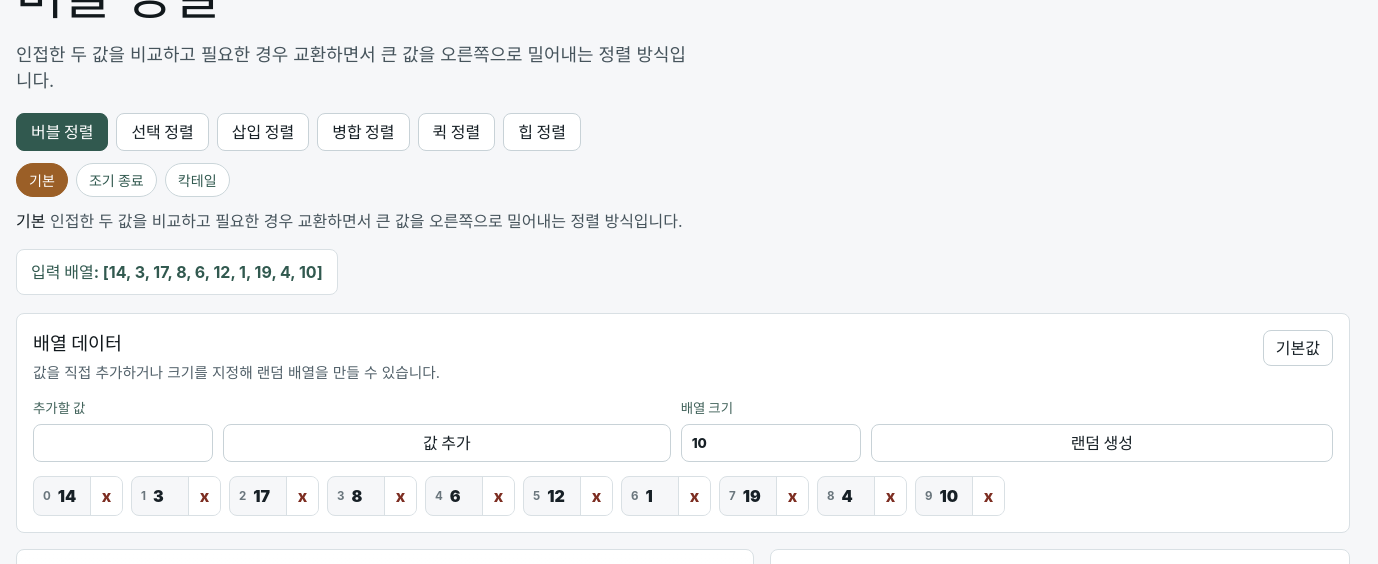
Scenario: SortingPage › switches to Merge Sort with synchronized code highlighting
Click the tab "병합 정렬" at (363, 132), box [317, 113, 410, 151]
(page scrolled)
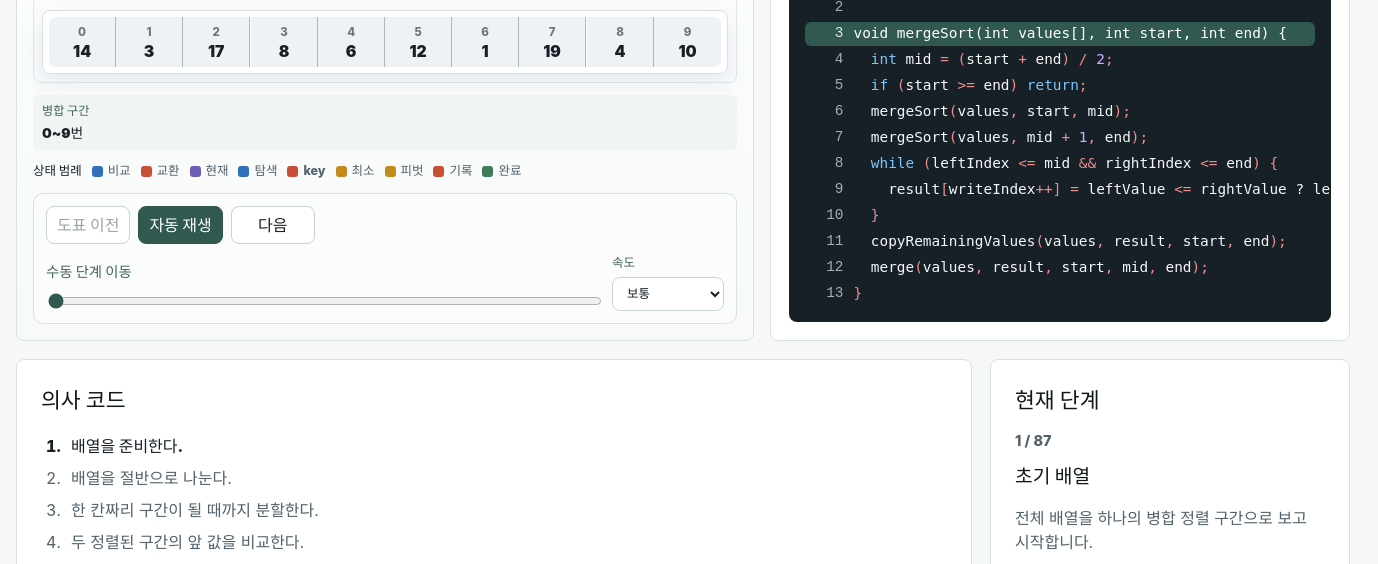
Expected: the heading "초기 배열" is shown, [1015, 464, 1090, 488]
Click the button with aria-label "도표 다음" at (273, 225), box [231, 206, 315, 244]
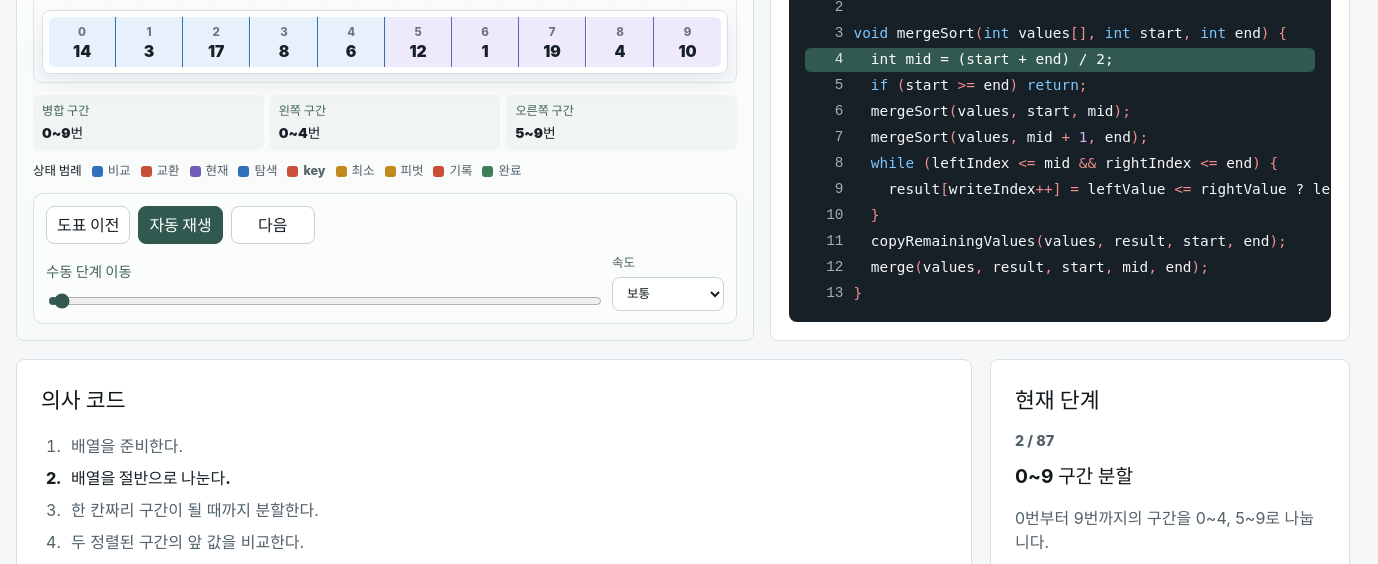
Now the list item with aria-label "현재 코드 4" shows "int mid =", box [805, 48, 1315, 72]
Now the heading "0~9 구간 분할" is shown, box [1015, 464, 1133, 488]
